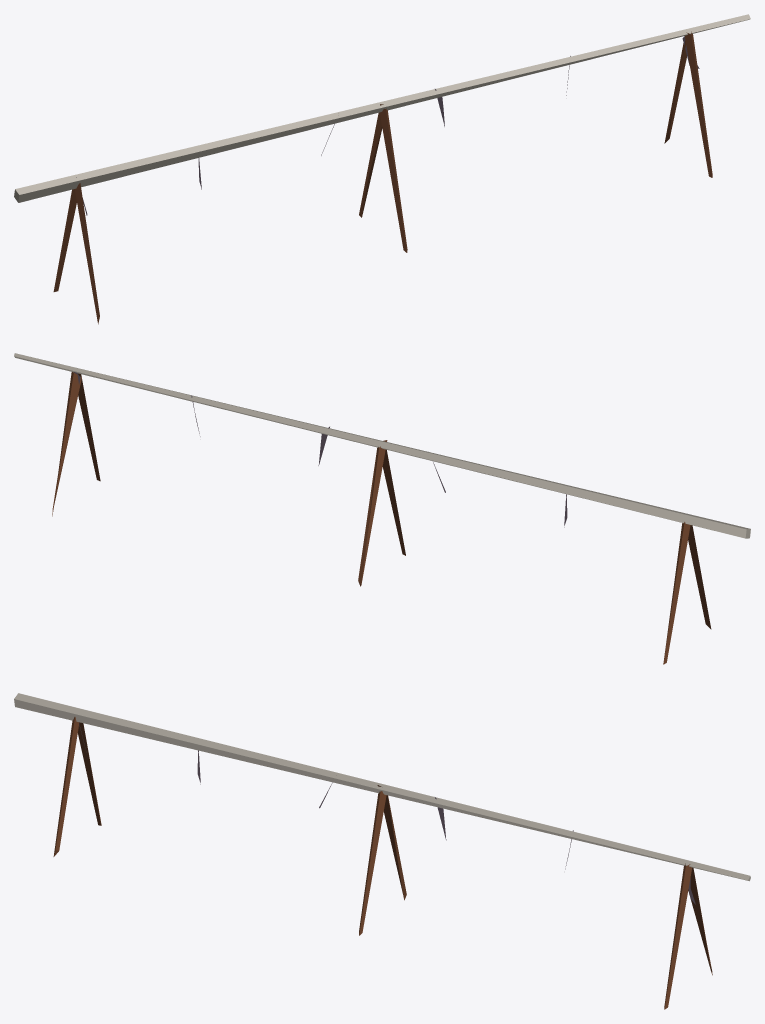
The picture shows the model from 3 angles, top to bottom: view 1: azimuth 30°, elevation 25°; view 2: azimuth 150°, elevation 25°; view 3: azimuth 330°, elevation 25°; orthographic projection.
Visible parts, largest first — view 1: body; view 2: body; view 3: body.
Part boxes in pixels (x1,y1,x2,y2): body: [14, 14, 750, 324]; body: [14, 353, 750, 664]; body: [14, 693, 750, 1009].
Bounding box in the file's own units: 12 × 2.12 × 1.36.
